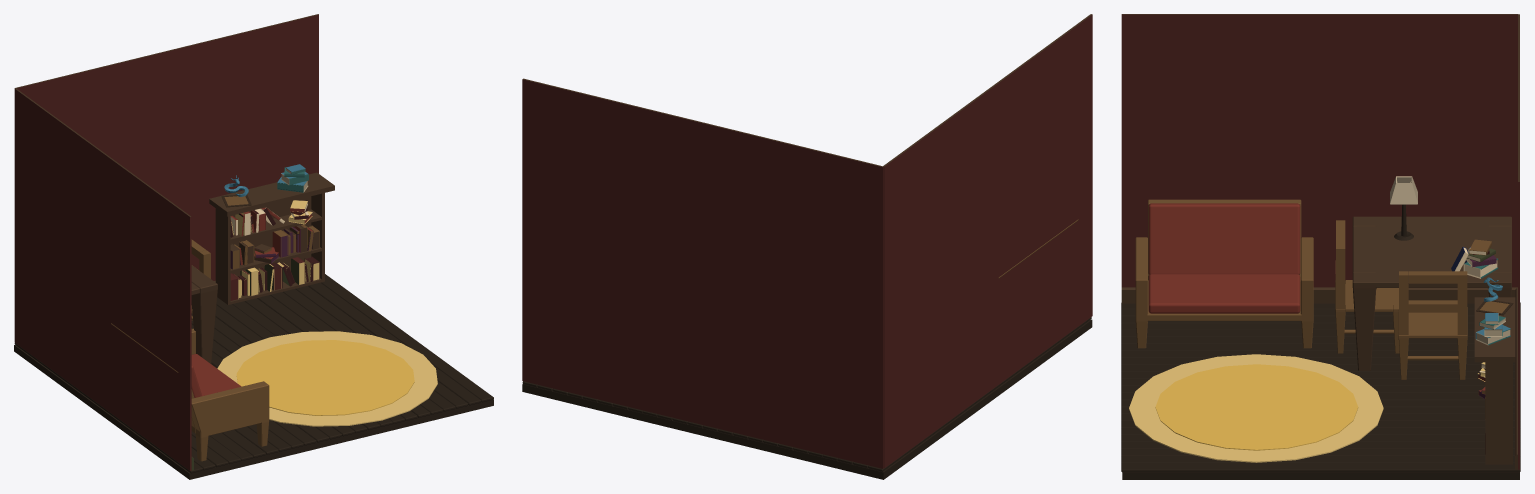
Rendered from FirstRoomSceneColorVer.fbx.
3 renders of one model, left to right at view 1: azimuth 30°, elevation 25°; view 2: azimuth 150°, elevation 25°; view 3: azimuth 270°, elevation 25°, orthographic. The views are drawn at different scales.
Visible parts, largest first — view 1: Walls:Left_Wall, Walls:Back_Wall, Rug:Rug, Rug:pCylinder1, Sofa__Unit5_HardSurfaceLab_1:Sofa_Base, Floor1:Floor, Floor1:pCube1, Table1:Table, BookShelf1:Top, BookShelf1:Bookshelf, Floor1:pCube2, BookShelf1:Layer_2 (+11 smaller); view 2: Walls:Back_Wall, Walls:Left_Wall, Floor1:Floor, Floor1:pCube23; view 3: Walls:Left_Wall, Sofa__Unit5_HardSurfaceLab_1:pasted__pasted__pCube6 (×2), Rug:Rug, Table1:Table, Rug:pCylinder1, Sofa__Unit5_HardSurfaceLab_1:Sofa_Base, Chair:Chair1, Floor1:pCube1, Floor1:Floor, Chair3:Chair1, Floor1:pCube18, Floor1:pCube2 (+26 smaller).
Part boxes in pixels (<box>): Walls:Left_Wall: <box>15,88,193,470</box>; Walls:Back_Wall: <box>14,14,318,341</box>; Rug:Rug: <box>236,340,414,415</box>; Rug:pCylinder1: <box>217,331,437,426</box>; Sofa__Unit5_HardSurfaceLab_1:Sofa_Base: <box>111,323,269,461</box>; Floor1:Floor: <box>14,345,493,479</box>; Floor1:pCube1: <box>321,274,493,402</box>; Table1:Table: <box>191,265,217,363</box>; BookShelf1:Top: <box>209,172,334,216</box>; BookShelf1:Bookshelf: <box>215,193,324,242</box>; Floor1:pCube2: <box>308,282,481,405</box>; BookShelf1:Layer_2: <box>215,219,324,273</box>; Walls:Back_Wall: <box>522,78,883,468</box>; Walls:Left_Wall: <box>883,14,1092,468</box>; Floor1:Floor: <box>522,319,1092,479</box>; Floor1:pCube23: <box>868,317,1091,471</box>; Walls:Left_Wall: <box>1121,14,1517,303</box>; Sofa__Unit5_HardSurfaceLab_1:pasted__pasted__pCube6 (×2): <box>1148,203,1300,313</box>; Rug:Rug: <box>1155,364,1358,450</box>; Table1:Table: <box>1352,216,1511,370</box>; Rug:pCylinder1: <box>1129,354,1383,462</box>; Sofa__Unit5_HardSurfaceLab_1:Sofa_Base: <box>1135,199,1313,348</box>; Chair:Chair1: <box>1398,271,1467,379</box>; Floor1:pCube1: <box>1121,463,1520,472</box>; Floor1:Floor: <box>1122,472,1519,479</box>; Chair3:Chair1: <box>1335,220,1399,353</box>; Floor1:pCube18: <box>1121,344,1520,351</box>; Floor1:pCube2: <box>1121,456,1520,463</box>.
Bounding box in the file's own units: 24.03 × 19.86 × 24.13.
1 material, 1 textured.
